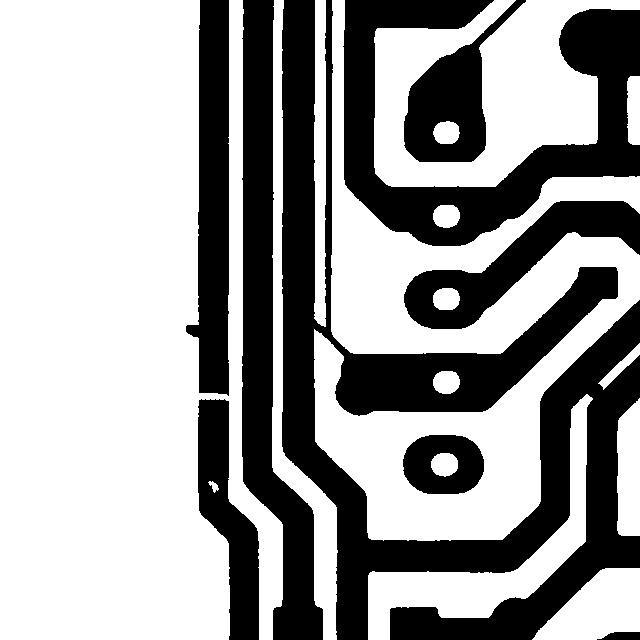open: (181, 383, 239, 410)
pin-hole: (198, 471, 228, 502)
short: (299, 308, 339, 347), (577, 374, 612, 408)
spur: (176, 315, 214, 348)
